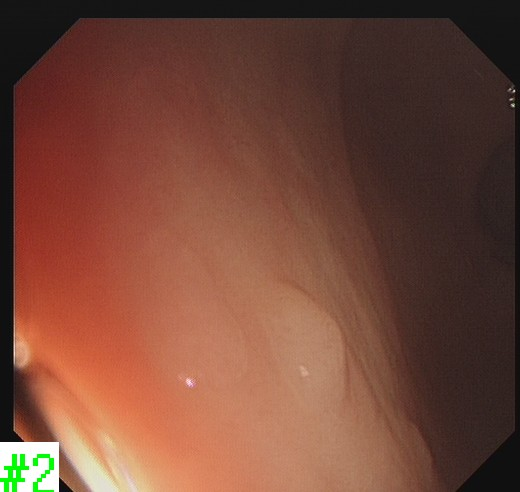adenoma: (120, 215, 256, 392), (272, 278, 354, 404)
